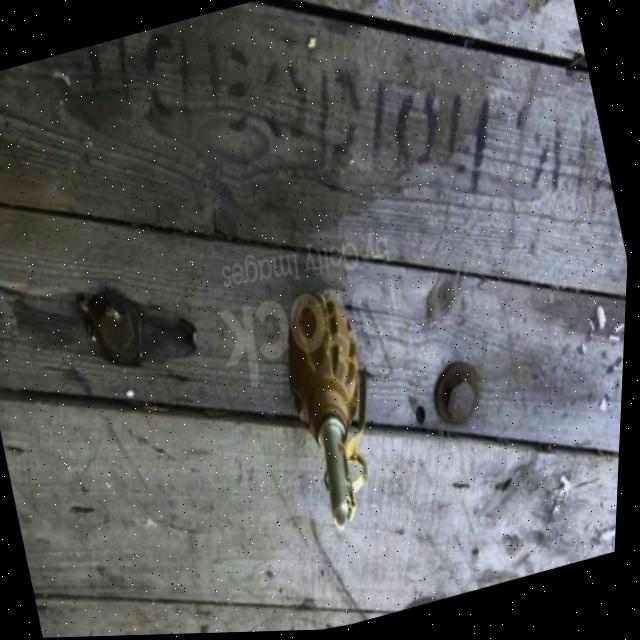grenade: (250, 280, 419, 557)
